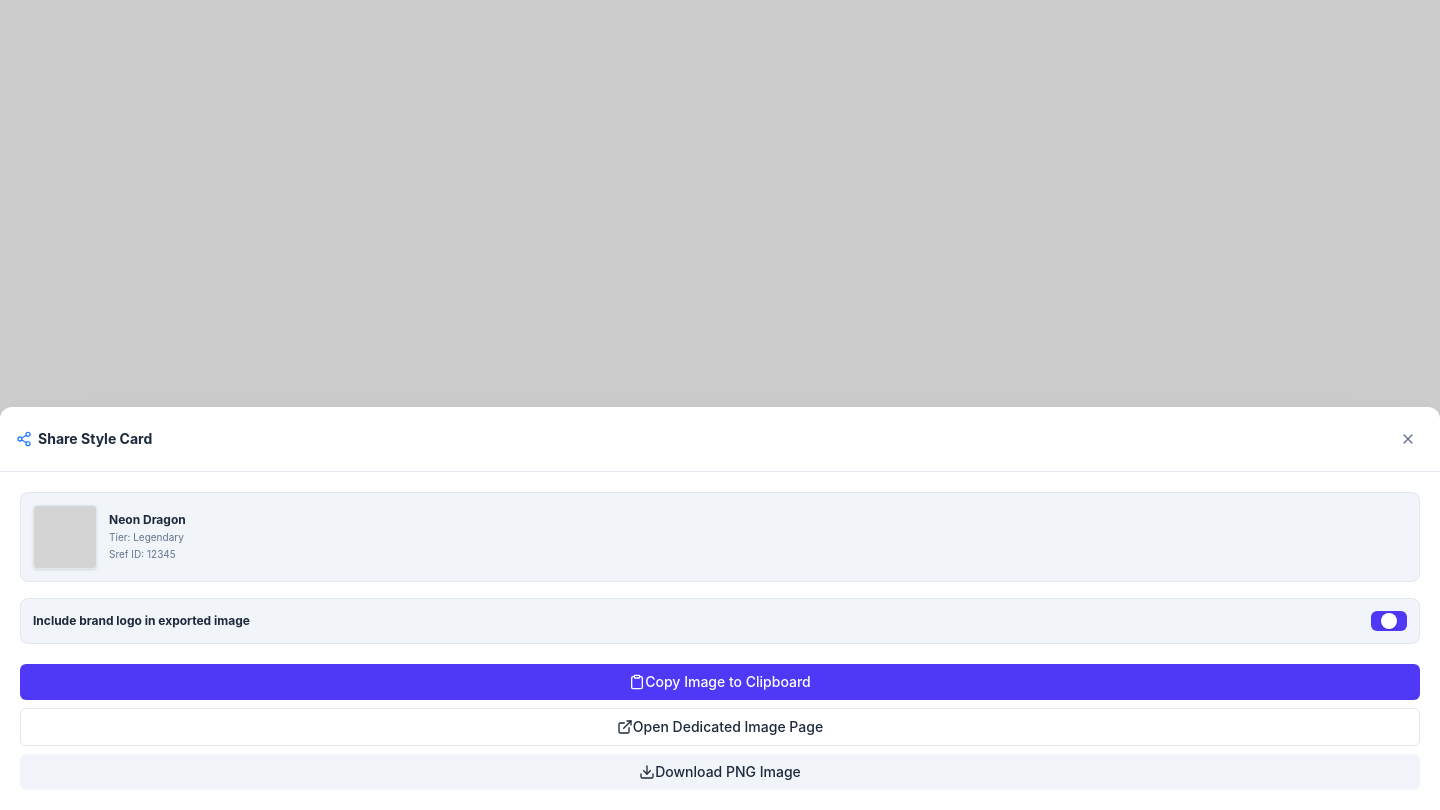
ShareCardModal › displays error message if download fails
Click the button with test id "share-download-button" at [720, 772], box [20,754,1420,790]
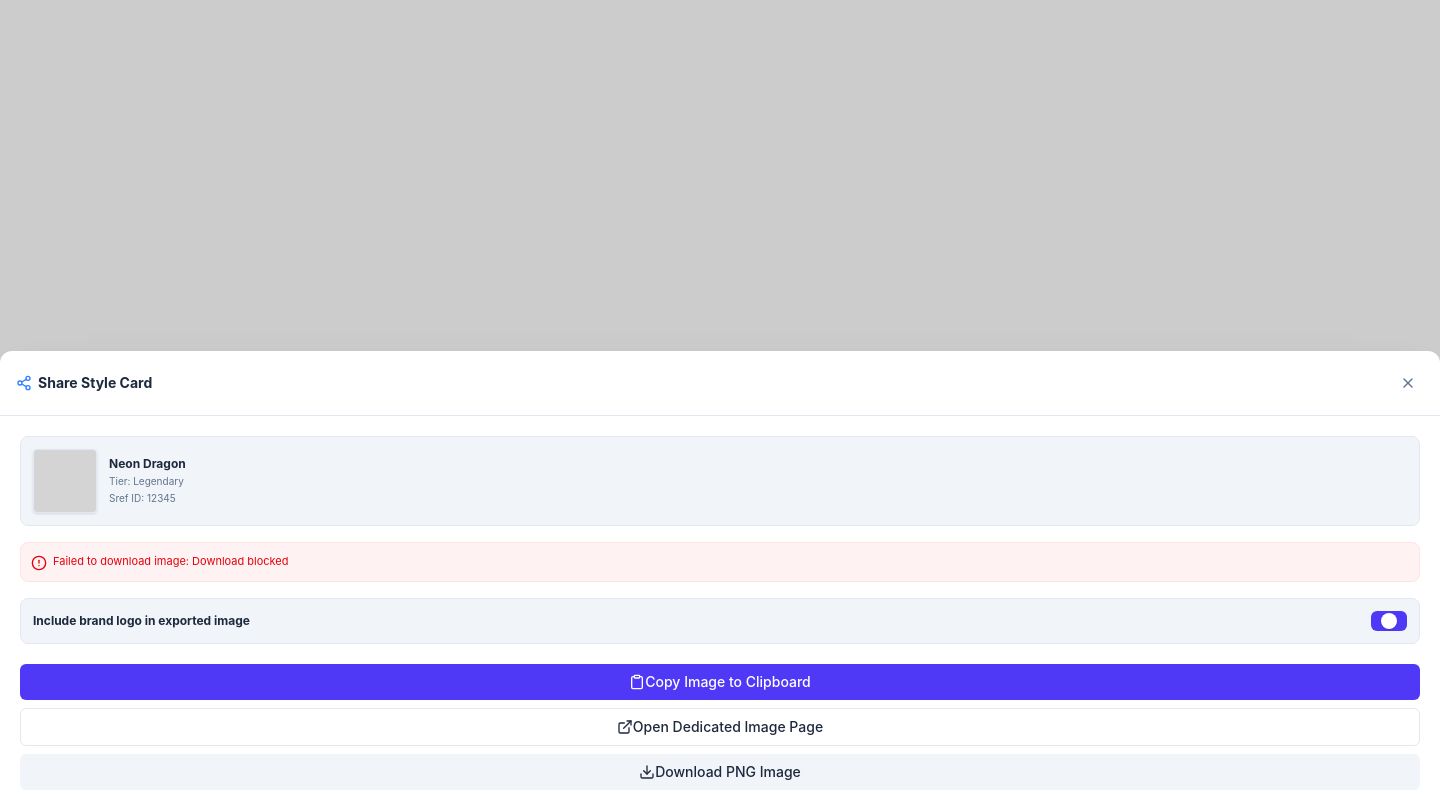
Expected: the text "Failed to download image: Download blocked" is shown, [53,553,288,570]
